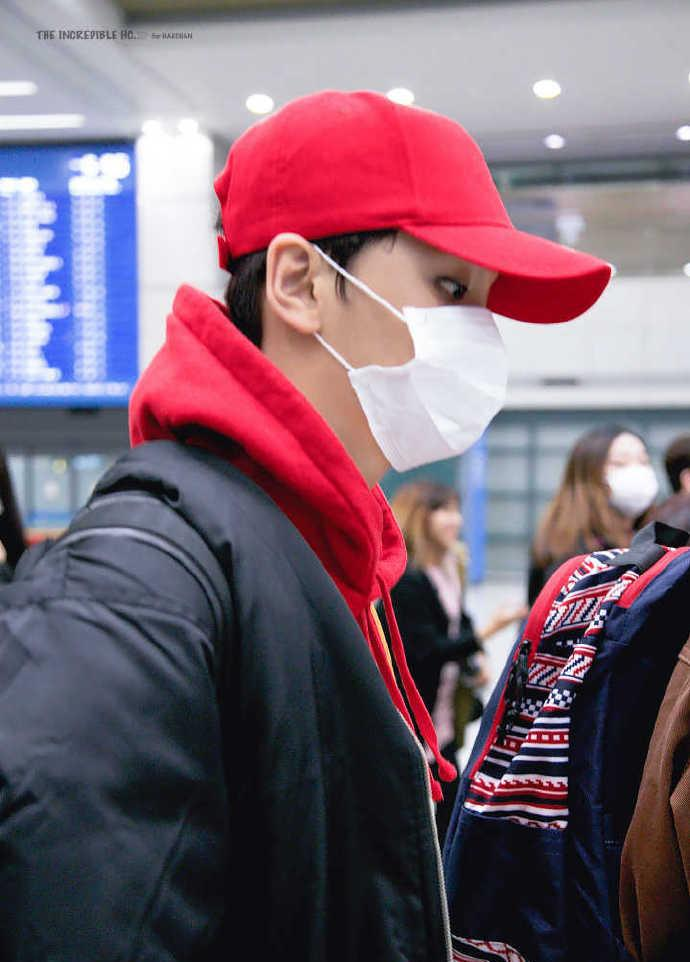NONE: (427, 504, 463, 547)
OK: (285, 236, 519, 470), (596, 449, 657, 520)
